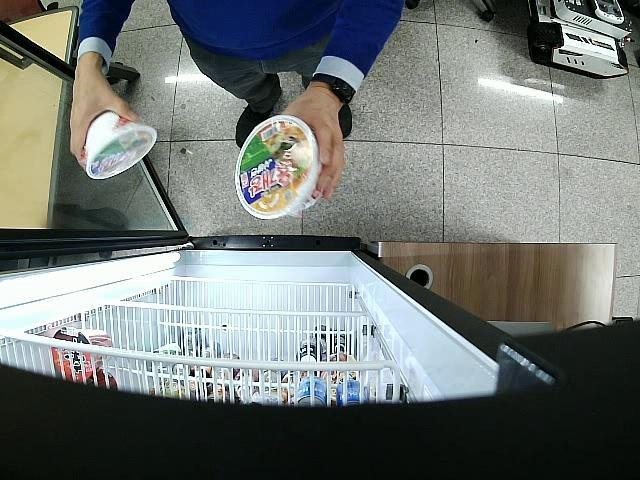09_yukGaeJang: (234, 115, 320, 220), (85, 111, 156, 179)
